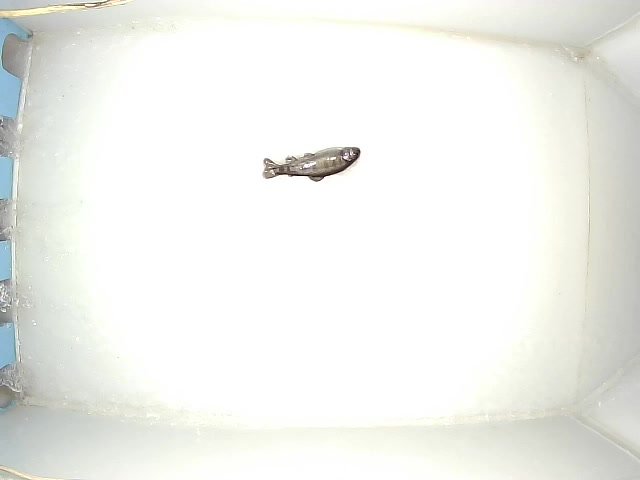fish: (262, 146, 361, 181)
